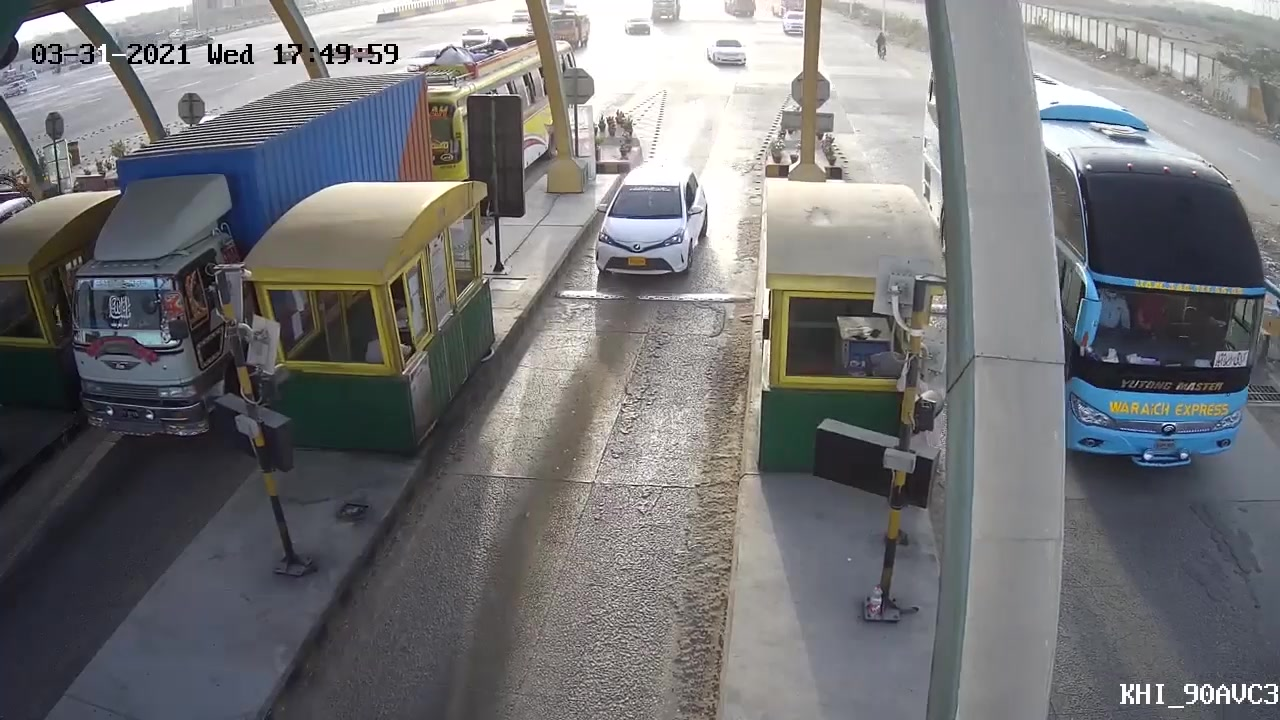F1: (587, 157, 721, 303)
